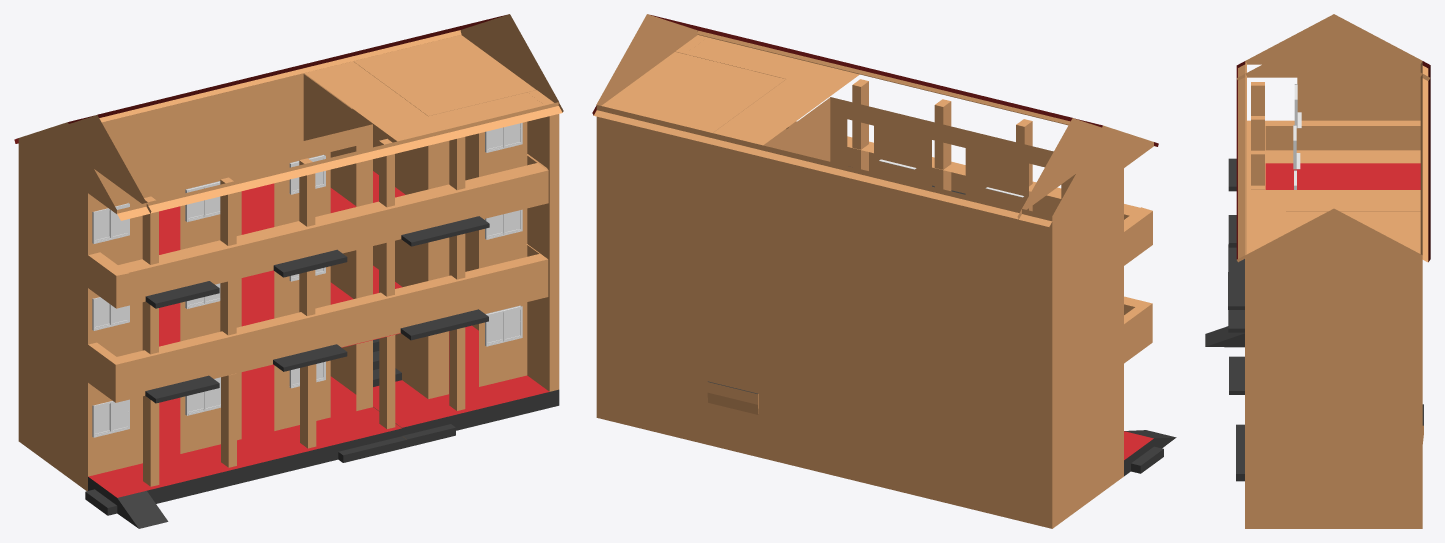
3 renders of one model, left to right at view 1: azimuth 30°, elevation 25°; view 2: azimuth 150°, elevation 25°; view 3: azimuth 270°, elevation 25°, orthographic. The views are drawn at different scales.
Parts seen in each view (by area): view 1: Plane, Window.L.003, Cube.012, Window.R, Window.R.003, Window.L, Cube.005, Cube.006, Cube.007, Cube.001, Cube.004, Cube.009 (+8 smaller); view 2: Plane, Cube.005, Cube.004; view 3: Plane, Cube.005, Cube.006, Cube.007.
Boxes of the visible parts, x1=… form: Plane: x1=14, y1=14, x2=563, y2=528; Window.L.003: x1=94, y1=209, x2=110, y2=435; Cube.012: x1=449, y1=327, x2=465, y2=410; Window.R: x1=503, y1=123, x2=521, y2=341; Window.R.003: x1=110, y1=205, x2=128, y2=432; Window.L: x1=487, y1=127, x2=503, y2=344; Cube.005: x1=299, y1=158, x2=315, y2=226; Cube.006: x1=220, y1=177, x2=236, y2=245; Cube.007: x1=142, y1=196, x2=158, y2=264; Cube.001: x1=220, y1=279, x2=236, y2=335; Cube.004: x1=379, y1=138, x2=394, y2=207; Cube.009: x1=449, y1=137, x2=465, y2=190; Plane: x1=592, y1=14, x2=1176, y2=528; Cube.005: x1=934, y1=99, x2=951, y2=190; Cube.004: x1=852, y1=79, x2=868, y2=170; Plane: x1=1205, y1=14, x2=1430, y2=528; Cube.005: x1=1251, y1=150, x2=1264, y2=185; Cube.006: x1=1251, y1=116, x2=1264, y2=150; Cube.007: x1=1251, y1=82, x2=1264, y2=115.
Size of the model in its own units: 108 by 81.19 by 51.67.
